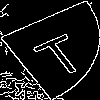T: (25, 25, 91, 80)
